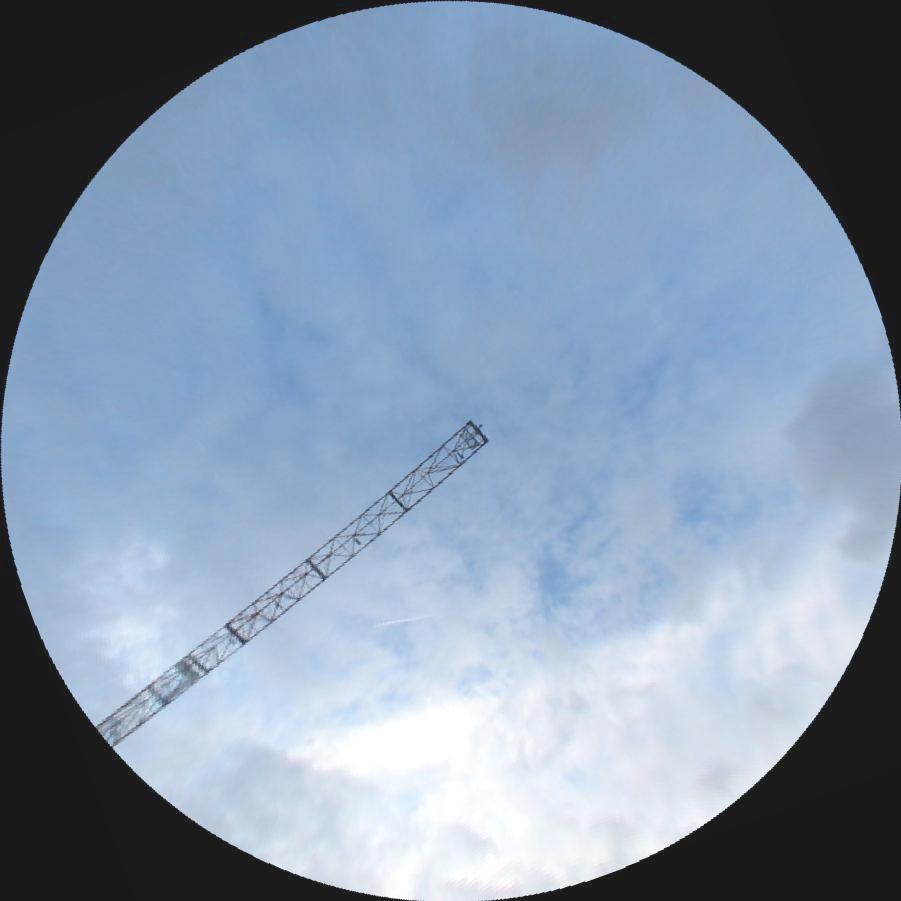contrail young: (373, 612, 439, 629)
